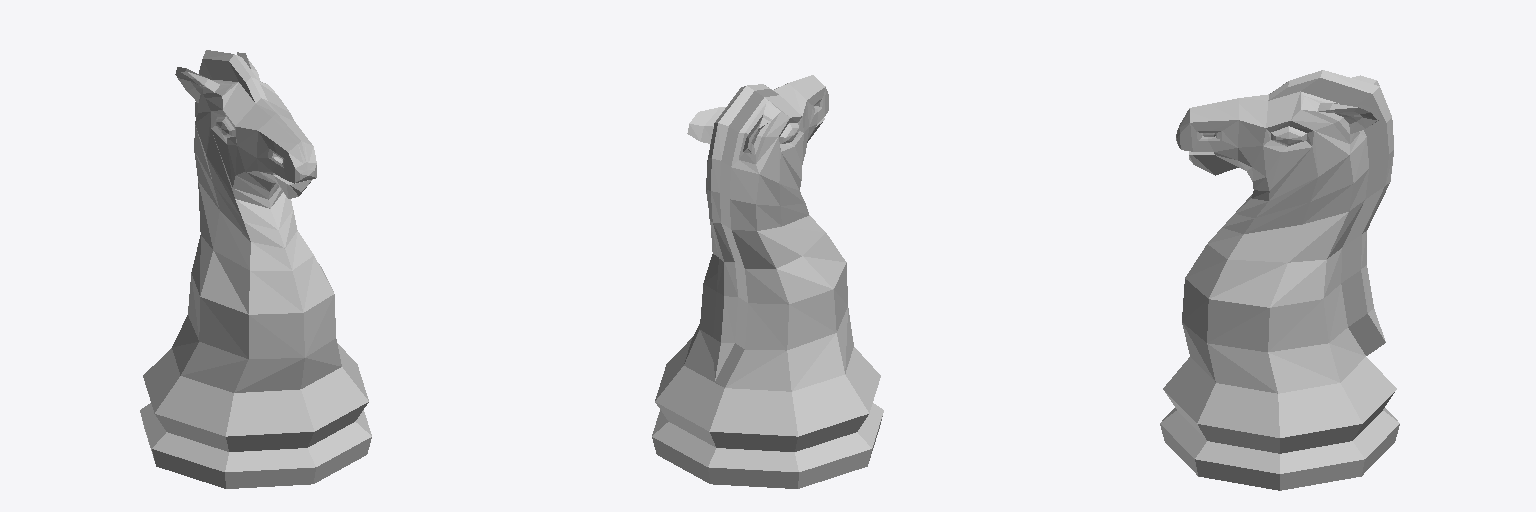
The model's file is LOW_POLY_piece_Knight_FINAL.obj.
The picture shows the model from 3 angles: view 1: azimuth 30°, elevation 25°; view 2: azimuth 150°, elevation 25°; view 3: azimuth 270°, elevation 25°; orthographic projection.
Visible parts, largest first — view 1: Chess_Knight1; view 2: Chess_Knight1; view 3: Chess_Knight1.
Boxes of the visible parts, x1=… form: Chess_Knight1: x1=140, y1=50, x2=371, y2=488; Chess_Knight1: x1=652, y1=75, x2=883, y2=488; Chess_Knight1: x1=1160, y1=70, x2=1399, y2=490.
Bounding box in the file's own units: 3.93 × 6.7 × 3.93.